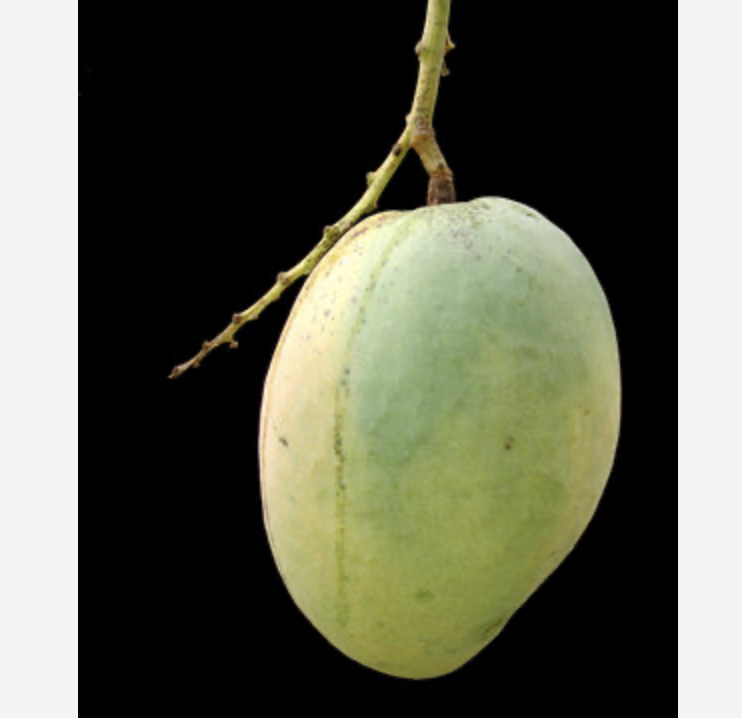mango: (204, 122, 639, 696)
